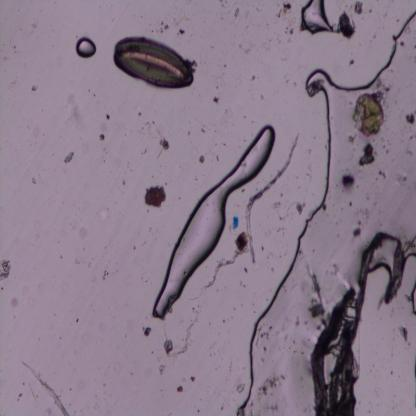Air bubble: (151, 125, 276, 320), (305, 7, 416, 215), (236, 205, 322, 414), (301, 0, 333, 37), (74, 36, 97, 59), (408, 279, 416, 316)
Background material: (351, 91, 386, 142), (307, 267, 325, 321), (257, 374, 285, 403), (334, 12, 357, 41), (144, 184, 168, 209), (358, 142, 378, 168), (308, 76, 324, 96), (277, 0, 293, 18), (0, 259, 12, 283), (342, 172, 356, 192), (158, 134, 170, 154), (236, 230, 248, 250), (398, 323, 409, 342), (62, 149, 75, 165), (163, 338, 174, 355), (353, 2, 366, 16), (404, 110, 416, 125), (352, 225, 364, 237), (294, 200, 304, 214), (159, 19, 169, 33), (156, 362, 166, 376), (210, 92, 220, 106), (142, 325, 152, 338), (236, 380, 245, 394), (378, 169, 388, 180), (98, 131, 106, 143), (198, 153, 206, 165), (346, 57, 356, 66), (233, 7, 240, 18), (178, 27, 186, 36), (285, 27, 294, 35), (101, 271, 109, 280), (32, 82, 39, 92), (190, 374, 197, 383), (177, 385, 184, 394), (31, 177, 37, 185), (105, 111, 110, 120)
Cellulose filter fibre: (310, 232, 406, 415), (243, 132, 301, 264), (194, 247, 248, 300), (20, 359, 68, 415), (177, 314, 202, 354)
Diatom: (112, 34, 194, 89)
Fragment: (232, 216, 240, 230)
